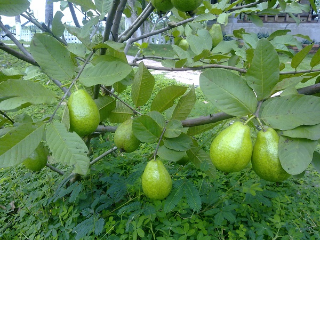oi: (204, 117, 254, 179), (250, 121, 292, 186), (59, 83, 105, 138), (139, 155, 175, 204)
